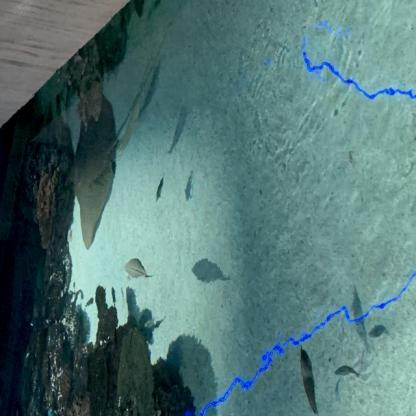fish: (298, 344, 320, 415), (123, 258, 151, 282), (335, 361, 360, 384), (153, 175, 165, 203), (109, 286, 117, 309), (85, 296, 94, 307)
stingray: (74, 92, 117, 250)
